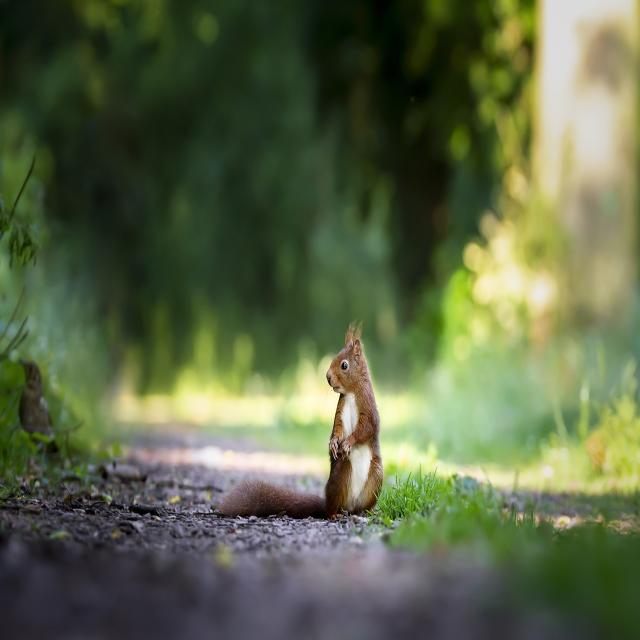Herbivorous: (324, 321, 384, 521)
